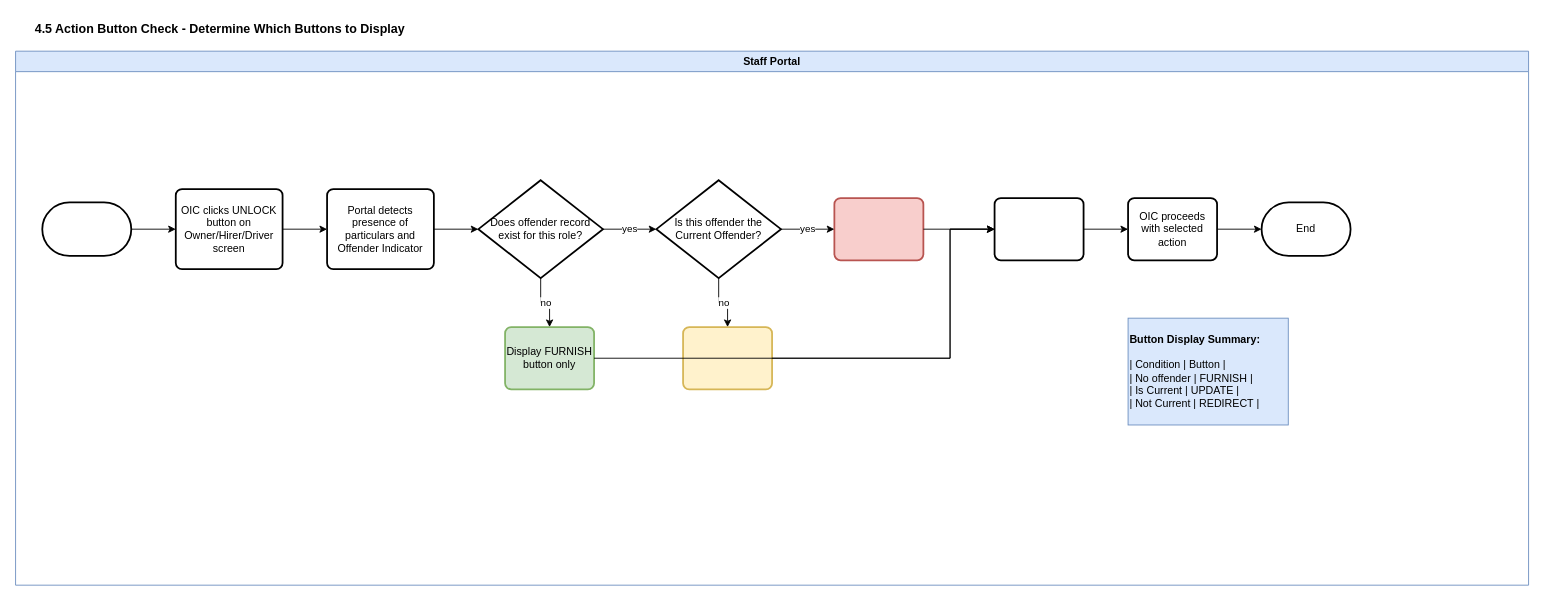
The diagram is 1544 pixels wide and 601 high, and some of its shapes have lost their labels. The shapes that lost their labels are listed below. From the top down, each one's centre as x and y in pixels, then its label:
At [86,228]: "Start".
At [878,229]: "Display UPDATE button only".
At [1038,229]: "Portal unlocks fields for editing".
At [727,358]: "Display REDIRECT button only".
